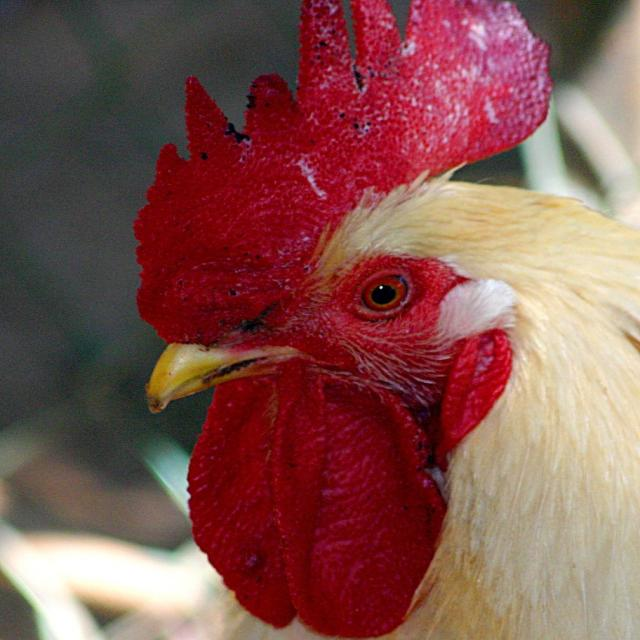Chicken: (112, 47, 640, 640)
